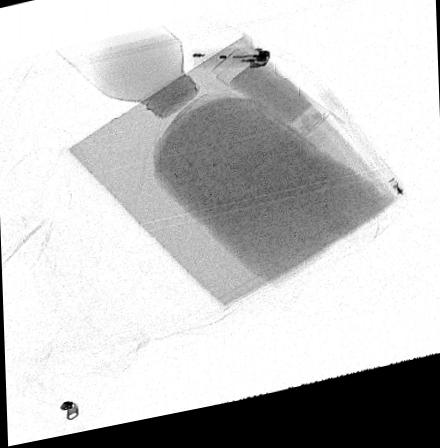Lighter: (191, 56, 270, 80)
